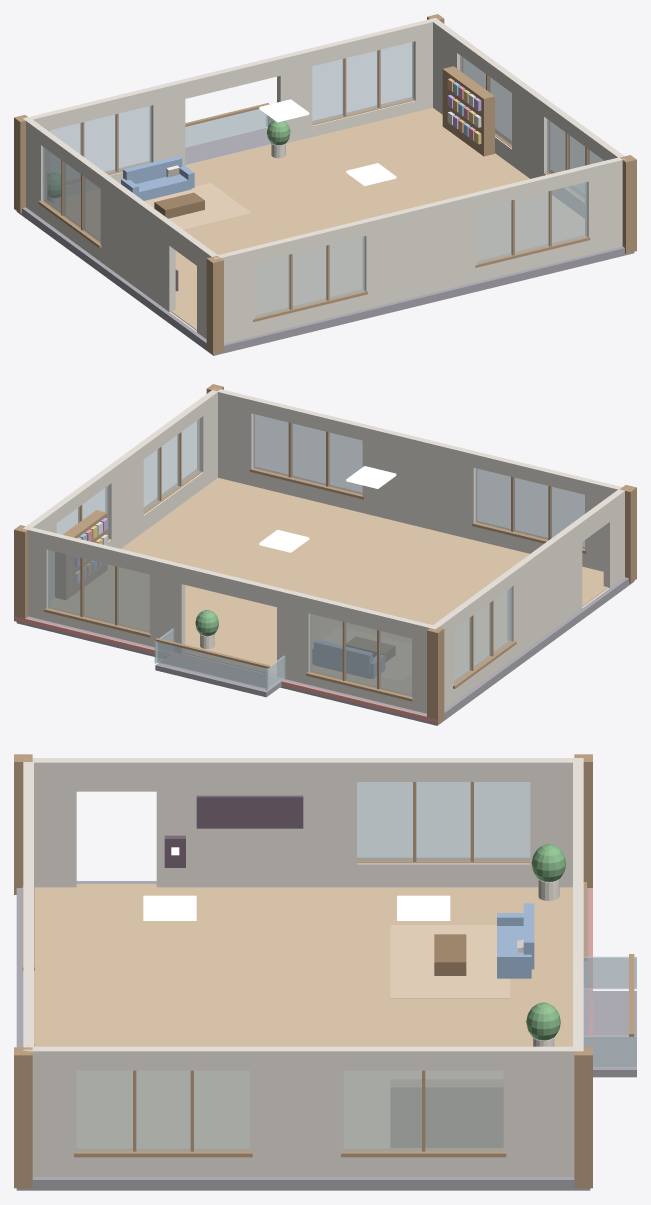
The model's file is Floor02.glb.
3 renders of one model, top to bottom at view 1: azimuth 30°, elevation 25°; view 2: azimuth 150°, elevation 25°; view 3: azimuth 270°, elevation 25°, orthographic. The views are drawn at different scales.
Visible parts, largest first — view 1: Floor02_14, Floor02_11, Floor02_10, Floor02_7, Floor02_6, Floor02_4, Floor02_13, Floor02_9, Floor02_19, Floor02_3, Floor02_1; view 2: Floor02_14, Floor02_11, Floor02_10, Floor02_7, Floor02_6, Floor02_9, Floor02_12, Floor02_4, Floor02_19, Floor02_13, Floor02_3, Floor02_1; view 3: Floor02_14, Floor02_11, Floor02_10, Floor02_7, Floor02_6, Floor02_13, Floor02_0, Floor02_9, Floor02_19, Floor02_4, Floor02_1, Floor02_3 (+1 smaller).
Part boxes in pixels (bbox=[...]): Floor02_14: bbox=[23, 18, 624, 343]; Floor02_11: bbox=[66, 108, 584, 330]; Floor02_10: bbox=[42, 42, 603, 317]; Floor02_7: bbox=[14, 14, 636, 354]; Floor02_6: bbox=[16, 128, 634, 355]; Floor02_4: bbox=[121, 156, 194, 200]; Floor02_13: bbox=[144, 183, 251, 229]; Floor02_9: bbox=[185, 109, 273, 147]; Floor02_19: bbox=[259, 99, 396, 185]; Floor02_3: bbox=[154, 192, 204, 218]; Floor02_1: bbox=[47, 120, 290, 198]; Floor02_14: bbox=[23, 388, 624, 713]; Floor02_11: bbox=[50, 478, 608, 694]; Floor02_10: bbox=[47, 414, 584, 696]; Floor02_7: bbox=[14, 384, 636, 724]; Floor02_6: bbox=[16, 577, 634, 725]; Floor02_9: bbox=[154, 628, 285, 690]; Floor02_12: bbox=[14, 616, 437, 723]; Floor02_4: bbox=[312, 640, 384, 678]; Floor02_19: bbox=[259, 466, 396, 552]; Floor02_13: bbox=[312, 627, 411, 681]; Floor02_3: bbox=[346, 636, 395, 661]; Floor02_1: bbox=[195, 610, 218, 636]; Floor02_14: bbox=[23, 758, 583, 1176]; Floor02_11: bbox=[34, 884, 572, 1147]; Floor02_10: bbox=[76, 782, 530, 1151]; Floor02_7: bbox=[14, 754, 634, 1188]; Floor02_6: bbox=[16, 881, 636, 1190]; Floor02_13: bbox=[390, 925, 510, 998]; Floor02_0: bbox=[164, 795, 303, 867]; Floor02_9: bbox=[583, 956, 636, 1067]; Floor02_19: bbox=[143, 895, 450, 920]; Floor02_4: bbox=[497, 903, 534, 978]; Floor02_1: bbox=[526, 844, 566, 1040]; Floor02_3: bbox=[434, 934, 466, 975].
Bounding box in the file's own units: 53.4 × 11.3 × 46.7.
